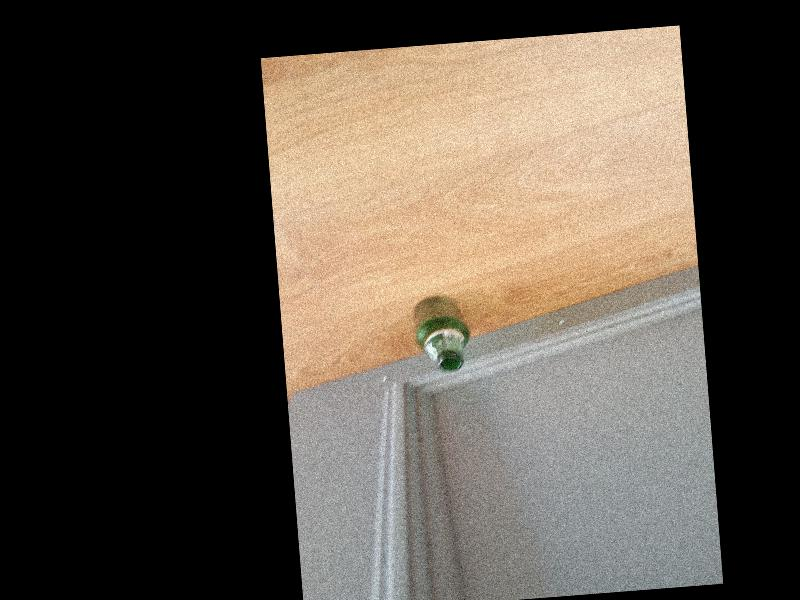Beer: (413, 294, 471, 373)
